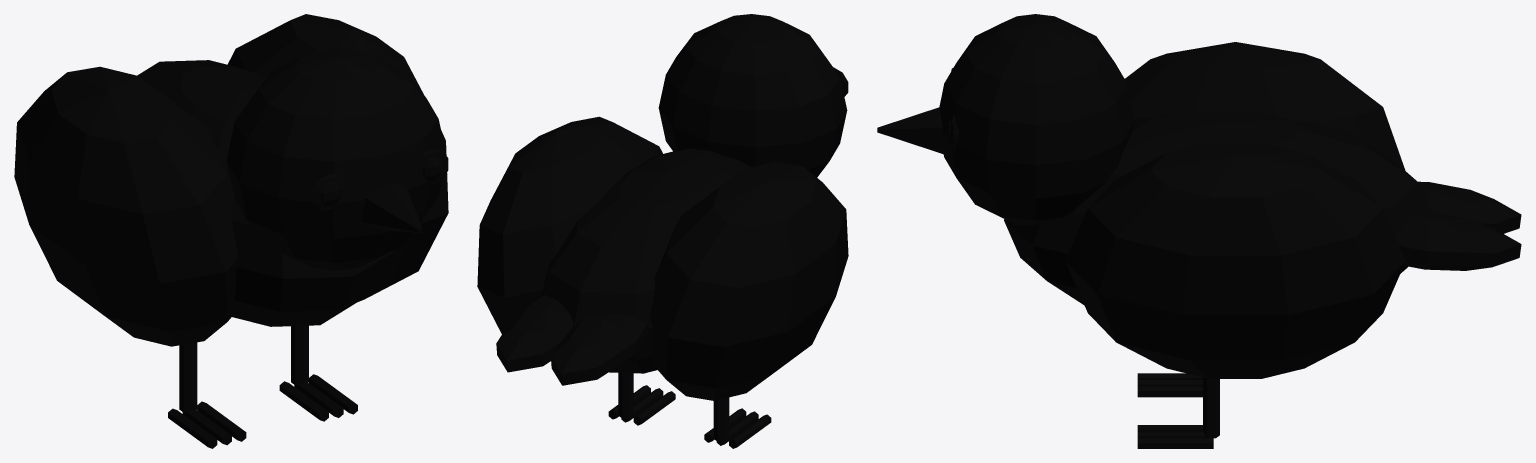
The model's file is perched.glb.
The picture shows the model from 3 angles, left to right: view 1: azimuth 30°, elevation 25°; view 2: azimuth 150°, elevation 25°; view 3: azimuth 270°, elevation 25°; orthographic projection. The views are drawn at different scales.
Visible parts, largest first — view 1: Wing_L, Head, Body, Wing_R, Beak, Leg_L, Leg_R, Toe_L_0, Toe_R_0, Toe_L_2, Toe_R_2, Toe_R_1 (+4 smaller); view 2: Wing_L, Head, Wing_R, Body, Tail_L, Tail_R, Leg_R, Leg_L, Toe_R_0, Toe_L_0, Toe_R_1, Toe_L_1; view 3: Wing_R, Head, Wing_L, Body, Tail_R, Tail_L, Beak, Leg_R, Toe_R_2, Toe_L_2.
Part boxes in pixels (bbox=[...]): Wing_L: bbox=[14, 66, 238, 346]; Head: bbox=[226, 48, 446, 270]; Body: bbox=[137, 60, 393, 326]; Wing_R: bbox=[227, 14, 448, 301]; Beak: bbox=[361, 182, 422, 232]; Leg_L: bbox=[179, 342, 197, 412]; Leg_R: bbox=[291, 325, 308, 385]; Toe_L_0: bbox=[168, 408, 217, 448]; Toe_R_0: bbox=[279, 381, 328, 421]; Toe_L_2: bbox=[197, 401, 246, 441]; Toe_R_2: bbox=[309, 374, 357, 414]; Toe_R_1: bbox=[294, 382, 343, 417]; Wing_L: bbox=[649, 161, 848, 400]; Head: bbox=[658, 14, 847, 177]; Wing_R: bbox=[477, 116, 662, 333]; Body: bbox=[540, 148, 750, 373]; Tail_L: bbox=[551, 313, 648, 385]; Tail_R: bbox=[496, 295, 573, 372]; Leg_R: bbox=[618, 372, 633, 418]; Leg_L: bbox=[713, 397, 729, 441]; Toe_R_0: bbox=[633, 391, 675, 425]; Toe_L_0: bbox=[729, 414, 771, 448]; Toe_R_1: bbox=[621, 388, 663, 422]; Toe_L_1: bbox=[716, 411, 758, 445]; Wing_R: bbox=[1065, 142, 1405, 378]; Head: bbox=[939, 14, 1134, 225]; Wing_L: bbox=[1125, 42, 1405, 170]; Body: bbox=[1004, 110, 1431, 305]; Tail_R: bbox=[1395, 211, 1521, 270]; Tail_L: bbox=[1418, 181, 1521, 233]; Beak: bbox=[877, 107, 947, 154]; Leg_R: bbox=[1203, 377, 1219, 438]; Toe_R_2: bbox=[1137, 438, 1213, 448]; Toe_L_2: bbox=[1137, 386, 1202, 397].
Size of the model in its own units: 0.1461 by 0.1626 by 0.2418.
Materials: 8 (8 with a texture image).
